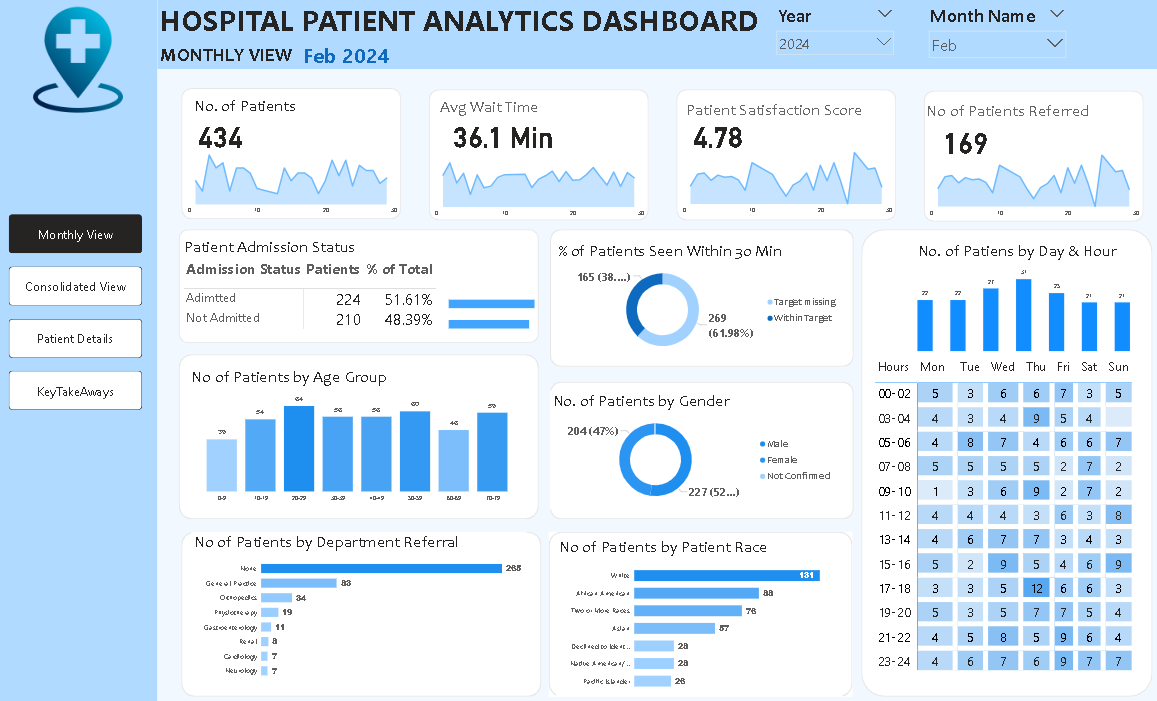

The page's visual inventory and layout, read from the dashboard file:
{"tool":"powerbi","page":{"name":"Monthly View","canvas":[2300,1400],"ordinal":0},"visuals":[{"type":"shape","box":[362.5,456.2,710.1,224.4],"z":0},{"type":"shape","box":[9.9,0,310,1400.5],"z":1000},{"type":"shape","box":[320.5,0,1980,140],"z":2000},{"type":"shape","box":[367.4,177.5,434,258.9],"z":3000},{"type":"textbox","box":[320.5,0,1511.5,101.1],"z":4000},{"type":"textbox","box":[291,83.8,330.4,56.7],"z":5000},{"type":"card","fields":{"Values":["Hospital ER_Data.No of Patients"]},"box":[367.4,221.9,155.3,91.2],"z":6000},{"type":"slicer","fields":{"Values":["Date Table.Year"]},"box":[1531.2,7.4,251.5,123.3],"z":7000},{"type":"slicer","fields":{"Values":["Date Table.Month Name"]},"box":[1832,7.4,291,123.3],"z":8000},{"type":"textbox","box":[855.6,180,254,59.2],"z":9000},{"type":"areaChart","fields":{"Category":["Date Table.Date.Variation.Date Hierarchy.Day"],"Y":["Hospital ER_Data.No of Patients"]},"box":[367.4,291,434,145.5],"z":10000},{"type":"card","fields":{"Values":["Min(Date Table.Month & Year)"]},"box":[584.4,83.8,217,56.7],"z":11000},{"type":"shape","box":[855.6,180,434,258.9],"z":12000},{"type":"shape","box":[1343.8,180,434,258.9],"z":13000},{"type":"shape","box":[1832,182.5,434,258.9],"z":14000},{"type":"textbox","box":[387.1,187.4,254,51.8],"z":15000},{"type":"textbox","box":[872.9,189.9,254,51.8],"z":16000},{"type":"card","fields":{"Values":["Hospital ER_Data.Avg Wait Time"]},"box":[875.3,221.9,254,91.2],"z":17000},{"type":"areaChart","fields":{"Category":["Date Table.Date.Variation.Date Hierarchy.Day"],"Y":["Avg(Hospital ER_Data.Patient Waittime)"]},"box":[855.6,295.9,434,145.5],"z":18000},{"type":"textbox","box":[1358.6,194.8,401.9,51.8],"z":19000},{"type":"textbox","box":[1832,197.3,367.4,51.8],"z":20000},{"type":"card","fields":{"Values":["Hospital ER_Data.Satisfaction Score"]},"box":[1343.8,221.9,165.2,91.2],"z":21000},{"type":"areaChart","fields":{"Category":["Date Table.Date.Variation.Date Hierarchy.Day"],"Y":["Hospital ER_Data.Satisfaction Score"]},"box":[1343.8,291,434,145.5],"z":22000},{"type":"areaChart","fields":{"Category":["Date Table.Date.Variation.Date Hierarchy.Day"],"Y":["Hospital ER_Data.Satisfaction Score"]},"box":[1832,295.9,434,145.5],"z":23000},{"type":"card","fields":{"Values":["Hospital ER_Data.No. of Patience Referred"]},"box":[1832,234.2,165.2,91.2],"z":24000},{"type":"pivotTable","title":"Patient Admission Status","fields":{"Rows":["Hospital ER_Data.Admission Status"],"Values":["Hospital ER_Data.No of Patients1","Hospital ER_Data.No of Patients"]},"box":[367.4,470.9,584.4,199.7],"z":25000},{"type":"barChart","fields":{"Category":["Hospital ER_Data.Admission Status"],"Y":["Hospital ER_Data.No of Patients"]},"box":[890.1,562.2,236.7,118.4],"z":26000},{"type":"shape","box":[362.5,702.7,710.1,325.5],"z":27000},{"type":"clusteredColumnChart","fields":{"Category":["Hospital ER_Data.Age Group"],"Y":["Hospital ER_Data.No of Patients"]},"box":[382.2,727.4,665.7,276.2],"z":28000},{"type":"shape","box":[367.4,1052.9,710.1,325.5],"z":29000},{"type":"clusteredBarChart","fields":{"Category":["Hospital ER_Data.Department Referral"],"Y":["Hospital ER_Data.No of Patients"]},"box":[387.1,1052.9,660.8,300.8],"z":30000},{"type":"shape","box":[1094.8,456.2,599.2,271.2],"z":31000},{"type":"shape","box":[1708.7,456.2,574.5,922.2],"z":32000},{"type":"shape","box":[1092.3,1052.9,599.2,325.5],"z":33000},{"type":"donutChart","title":"% of Patients Seen Within 30 Min","fields":{"Category":["Hospital ER_Data.Waittime Status"],"Y":["Hospital ER_Data.No of Patients"]},"box":[1107.1,478.3,564.6,234.2],"z":34000},{"type":"shape","box":[1094.8,757,599.2,271.2],"z":35000},{"type":"donutChart","title":"No. of Patients by Gender","fields":{"Y":["Hospital ER_Data.No of Patients"],"Category":["Hospital ER_Data.Patient Gender"]},"box":[1094.8,774.2,564.6,234.2],"z":36000},{"type":"clusteredBarChart","fields":{"Y":["Hospital ER_Data.No of Patients"],"Category":["Hospital ER_Data.Patient Race"]},"box":[1107.1,1062.7,564.6,315.6],"z":37000},{"type":"pivotTable","fields":{"Rows":["Hospital ER_Data.Waittime Interval"],"Columns":["Date Table.Day Name"],"Values":["Hospital ER_Data.No of Patients"]},"box":[1730.9,702.7,535.1,650.9],"z":38000},{"type":"columnChart","title":"No. of Patiens by Day & Hour","fields":{"Category":["Date Table.Day Name"],"Y":["Hospital ER_Data.No. of Patience Referred"]},"box":[1814.8,478.3,431.5,224.4],"z":39000},{"type":"image","box":[54.2,9.9,219.4,224.4],"z":40000},{"type":"pageNavigator","box":[27.1,426.6,263.8,387.1],"z":41000}]}

Visuals, with their boxes in screenshot pixels (x1, y1, x2, y2), scaled from the page's 2300x1400 canvas onto the 1157x701 screenshot:
shape: box(182, 228, 540, 341)
shape: box(5, 0, 161, 700)
shape: box(161, 0, 1156, 70)
shape: box(185, 89, 403, 219)
textbox: box(161, 0, 922, 51)
textbox: box(146, 42, 313, 70)
card - Hospital ER_Data.No of Patients: box(185, 111, 263, 157)
slicer - Date Table.Year: box(770, 4, 897, 65)
slicer - Date Table.Month Name: box(922, 4, 1068, 65)
textbox: box(430, 90, 558, 120)
areaChart - Date Table.Date.Variation.Date Hierarchy.Day x Hospital ER_Data.No of Patients: box(185, 146, 403, 219)
card - Min(Date Table.Month & Year): box(294, 42, 403, 70)
shape: box(430, 90, 649, 220)
shape: box(676, 90, 894, 220)
shape: box(922, 91, 1140, 221)
textbox: box(195, 94, 323, 120)
textbox: box(439, 95, 567, 121)
card - Hospital ER_Data.Avg Wait Time: box(440, 111, 568, 157)
areaChart - Date Table.Date.Variation.Date Hierarchy.Day x Avg(Hospital ER_Data.Patient Waittime): box(430, 148, 649, 221)
textbox: box(683, 98, 886, 123)
textbox: box(922, 99, 1106, 125)
card - Hospital ER_Data.Satisfaction Score: box(676, 111, 759, 157)
areaChart - Date Table.Date.Variation.Date Hierarchy.Day x Hospital ER_Data.Satisfaction Score: box(676, 146, 894, 219)
areaChart - Date Table.Date.Variation.Date Hierarchy.Day x Hospital ER_Data.Satisfaction Score: box(922, 148, 1140, 221)
card - Hospital ER_Data.No. of Patience Referred: box(922, 117, 1005, 163)
"Patient Admission Status" pivotTable: box(185, 236, 479, 336)
barChart - Hospital ER_Data.Admission Status x Hospital ER_Data.No of Patients: box(448, 282, 567, 341)
shape: box(182, 352, 540, 515)
clusteredColumnChart - Hospital ER_Data.Age Group x Hospital ER_Data.No of Patients: box(192, 364, 527, 503)
shape: box(185, 527, 542, 690)
clusteredBarChart - Hospital ER_Data.Department Referral x Hospital ER_Data.No of Patients: box(195, 527, 527, 678)
shape: box(551, 228, 852, 364)
shape: box(860, 228, 1149, 690)
shape: box(549, 527, 851, 690)
"% of Patients Seen Within 30 Min" donutChart: box(557, 239, 841, 357)
shape: box(551, 379, 852, 515)
"No. of Patients by Gender" donutChart: box(551, 388, 835, 505)
clusteredBarChart - Hospital ER_Data.No of Patients x Hospital ER_Data.Patient Race: box(557, 532, 841, 690)
pivotTable - Hospital ER_Data.Waittime Interval x Date Table.Day Name: box(871, 352, 1140, 678)
"No. of Patiens by Day & Hour" columnChart: box(913, 239, 1130, 352)
image: box(27, 5, 138, 117)
pageNavigator: box(14, 214, 146, 407)
